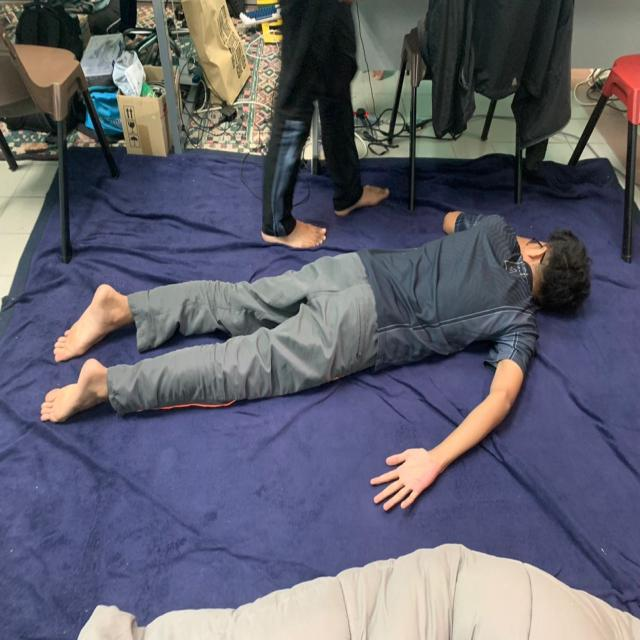Fall-Detected: (40, 206, 583, 512)
